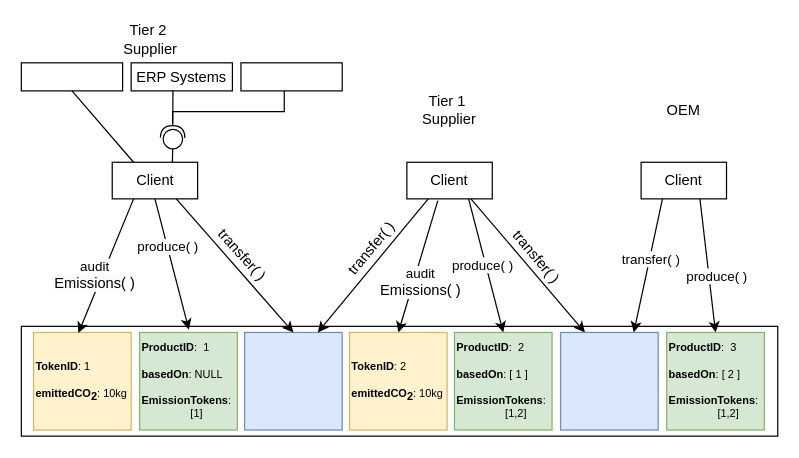
Some shapes in this 799 by 458 pixel diagram are drawn without their labels. Each missing label, with the centre of its shape:
Smart Meters: point 291,76
TransferedID : 1 from : supplier2ID to : supplier1ID: point 292,380
TransferedID : 2 from : supplier2ID to : oemID: point 608,380
Web Interface: point 71,76
